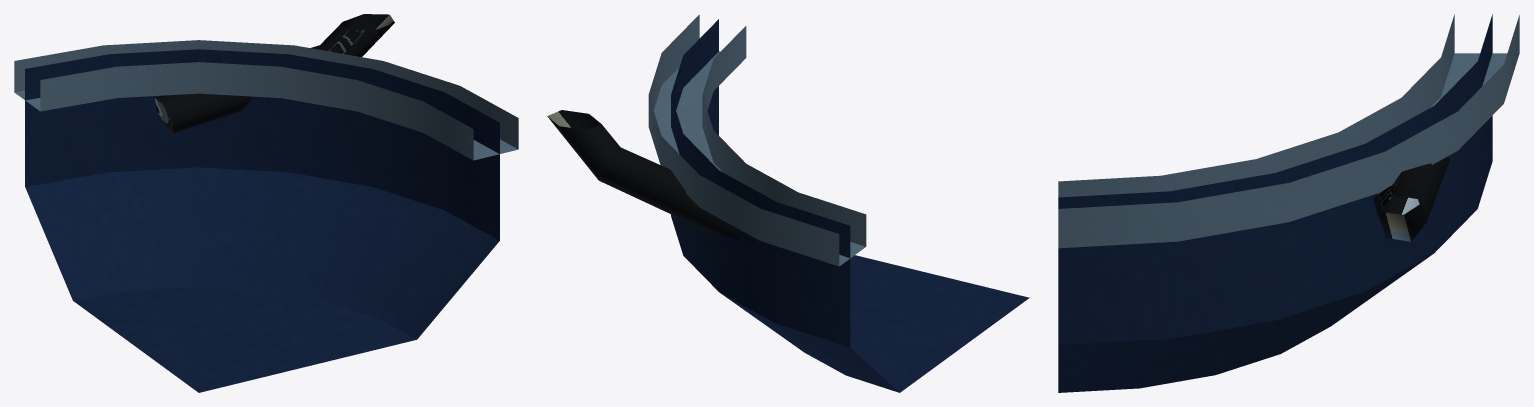
File: cell_1.obj
3 views of the same model, side by side, from view 1: azimuth 30°, elevation 25°; view 2: azimuth 150°, elevation 25°; view 3: azimuth 270°, elevation 25° (orthographic). The views are drawn at different scales.
Parts seen in each view (by area): view 1: cell_1; view 2: cell_1; view 3: cell_1.
Part boxes in pixels (x1,y1,x2,y2): cell_1: (14,14,518,392); cell_1: (547,14,1029,392); cell_1: (1058,14,1519,392).
Size of the model in its own units: 0.4377 by 0.25 by 0.425.
